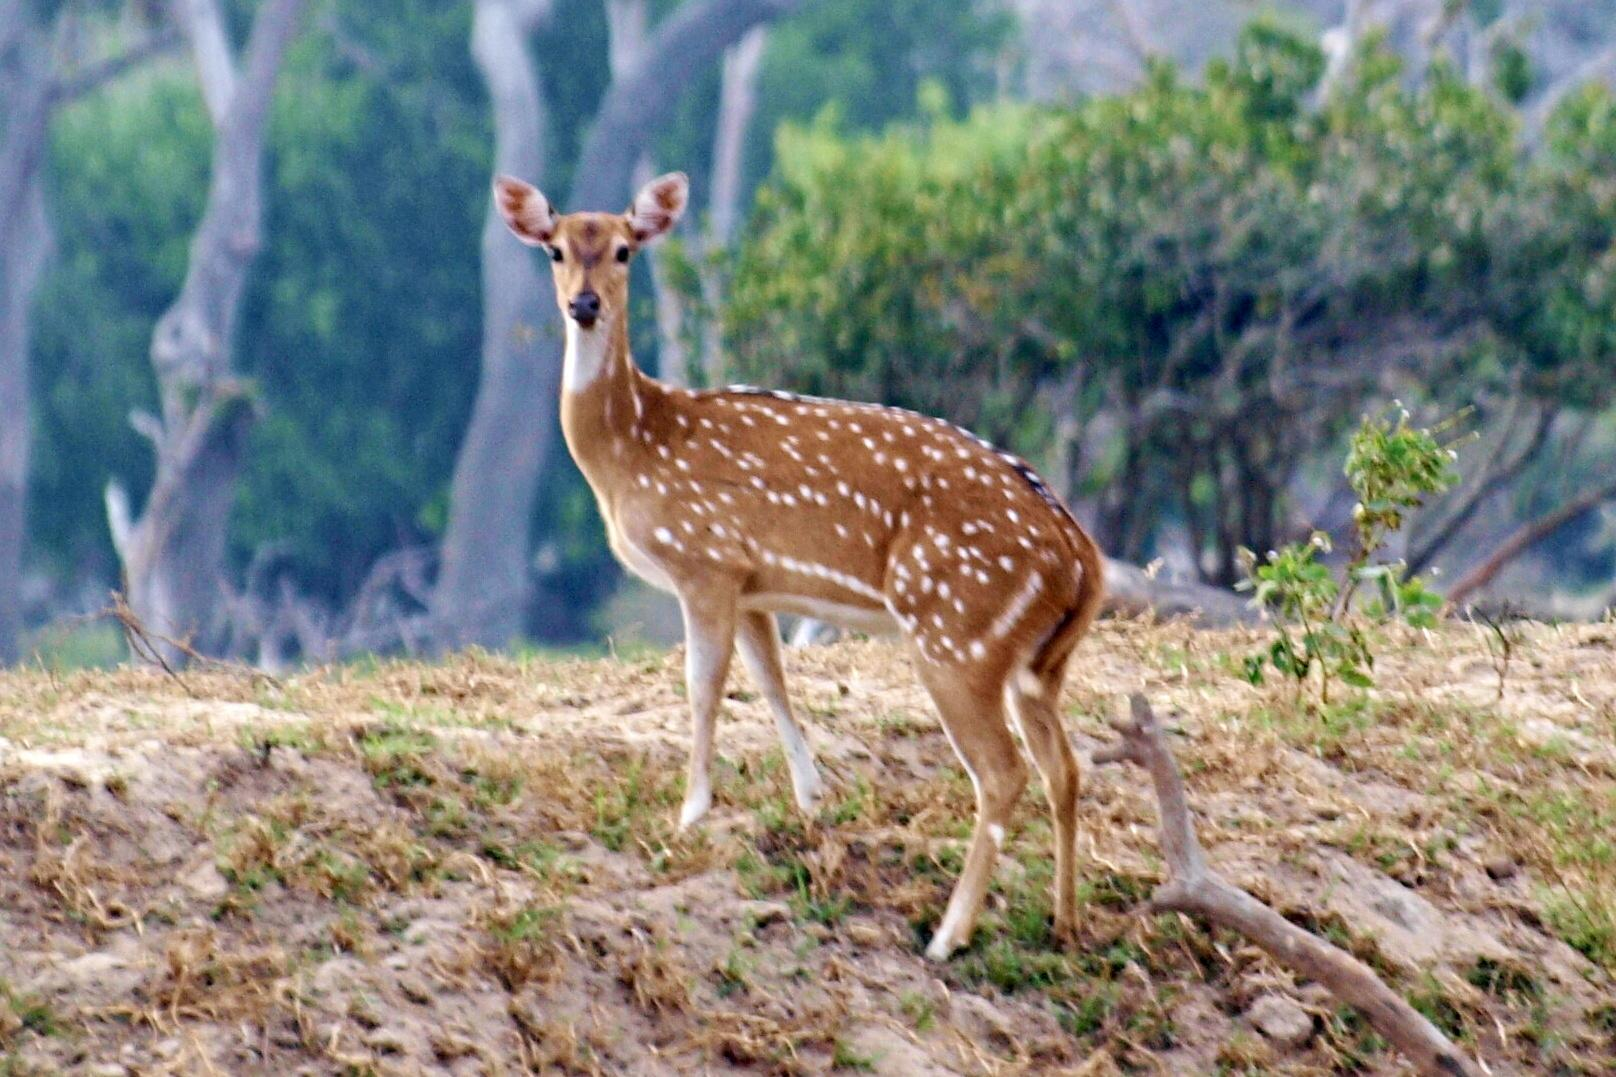Deer: (494, 173, 1104, 958)
